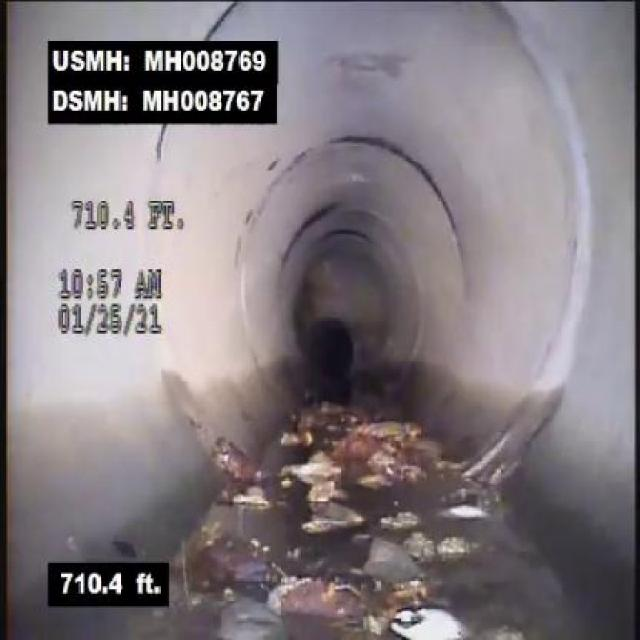Debris: (178, 537, 484, 638), (228, 442, 377, 529)
